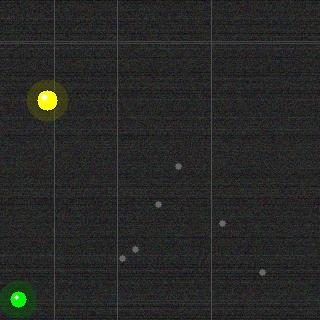green_normal: (8, 289, 28, 309)
yellow_warning: (35, 88, 59, 112)
